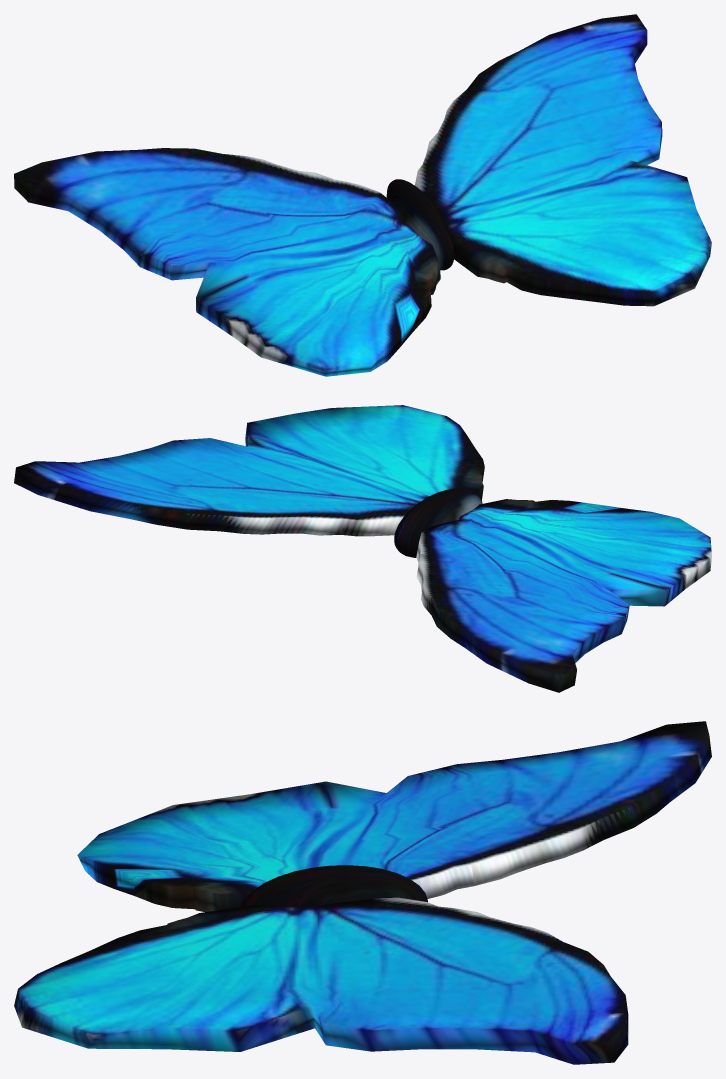
The picture shows the model from 3 angles, top to bottom: view 1: azimuth 30°, elevation 25°; view 2: azimuth 150°, elevation 25°; view 3: azimuth 270°, elevation 25°; orthographic projection. The views are drawn at different scales.
Parts seen in each view (by area): view 1: corpo; view 2: corpo; view 3: corpo.
Boxes of the visible parts, x1,y1,x2,y2 form: corpo: (14, 14, 711, 376); corpo: (14, 405, 711, 692); corpo: (14, 721, 711, 1064).
Bounding box in the file's own units: 397 × 64.61 × 310.
1 material, 1 textured.
